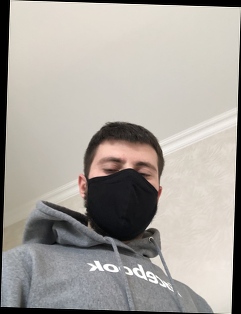with_mask: (86, 153, 158, 240)
